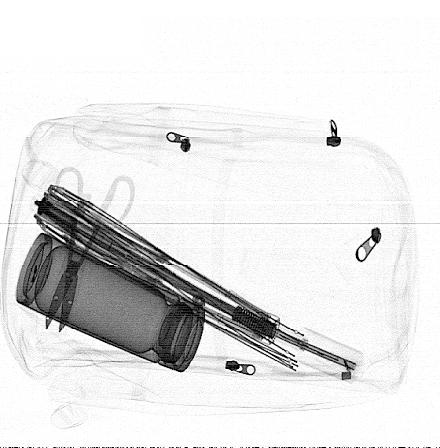Scissors: (46, 166, 134, 334)
